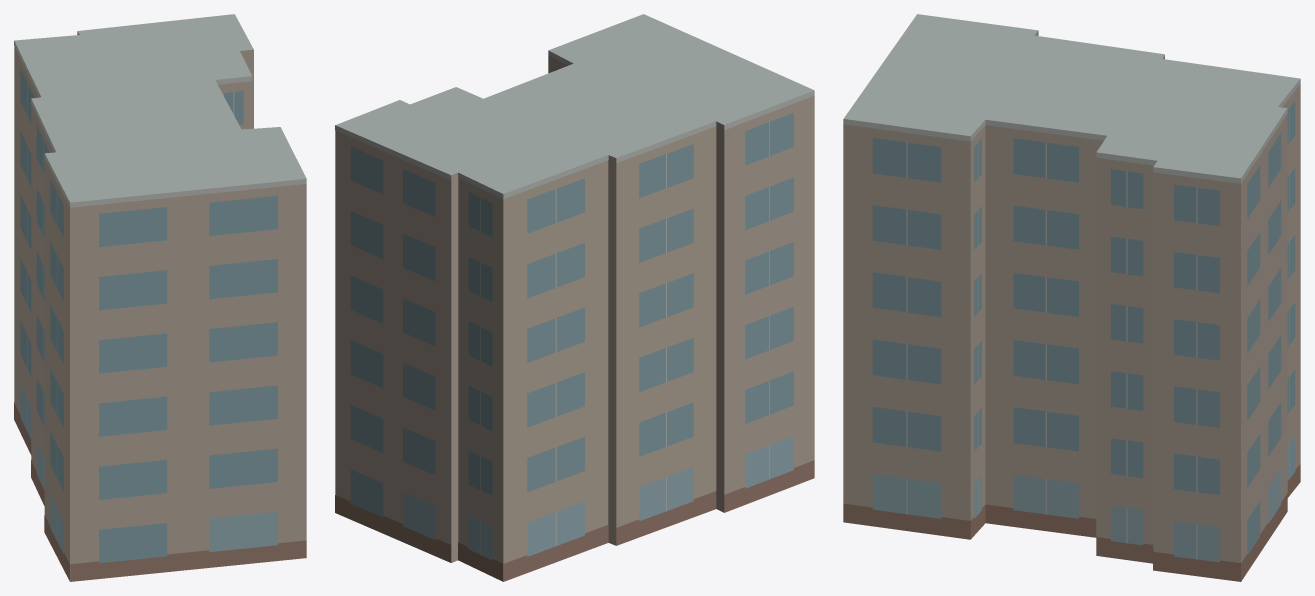
Rendered from survey-upis-32563956.glb.
3 renders of one model, left to right at view 1: azimuth 30°, elevation 25°; view 2: azimuth 150°, elevation 25°; view 3: azimuth 270°, elevation 25°, orthographic. The views are drawn at different scales.
Visible parts, largest first — view 1: survey-upis-32563956.tmp; view 2: survey-upis-32563956.tmp; view 3: survey-upis-32563956.tmp.
Boxes of the visible parts, left/top/right/bottom form: survey-upis-32563956.tmp: left=14, top=14, right=306, bottom=581; survey-upis-32563956.tmp: left=335, top=14, right=814, bottom=581; survey-upis-32563956.tmp: left=843, top=14, right=1300, bottom=581.
Bounding box in the file's own units: 16.01 × 18.3 × 18.8.
